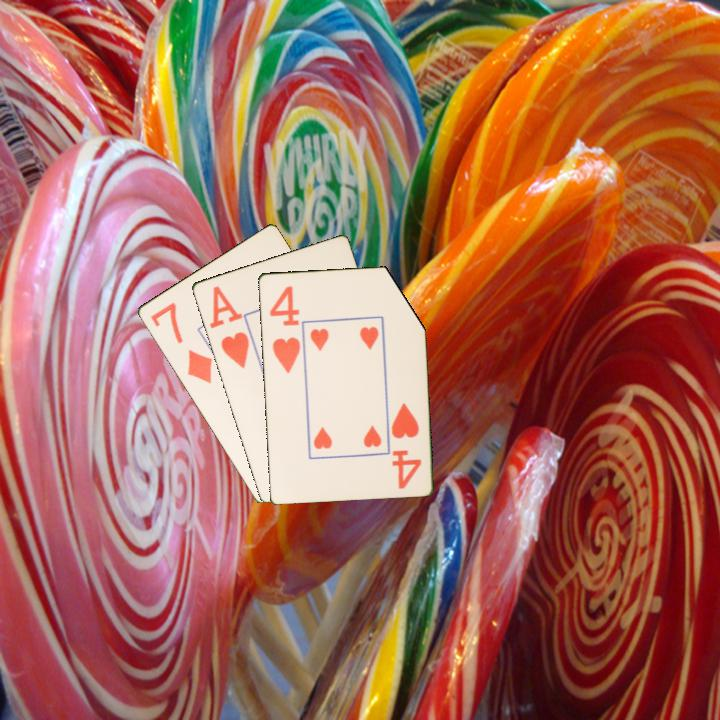4h: (266, 282, 303, 376), (388, 399, 424, 491)
7d: (146, 299, 215, 387)
Ah: (206, 282, 252, 371)
